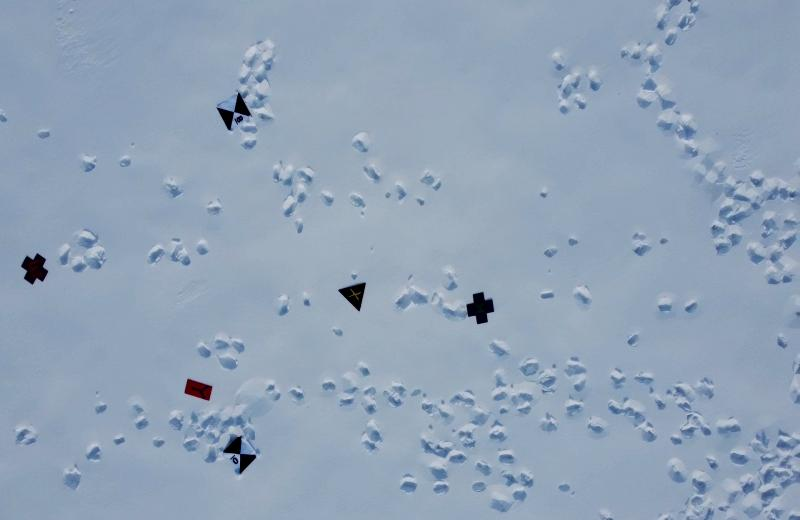Cross: (463, 288, 498, 325), (19, 252, 51, 287)
Rectangle: (182, 374, 215, 406)
Triangle: (336, 277, 370, 314)
